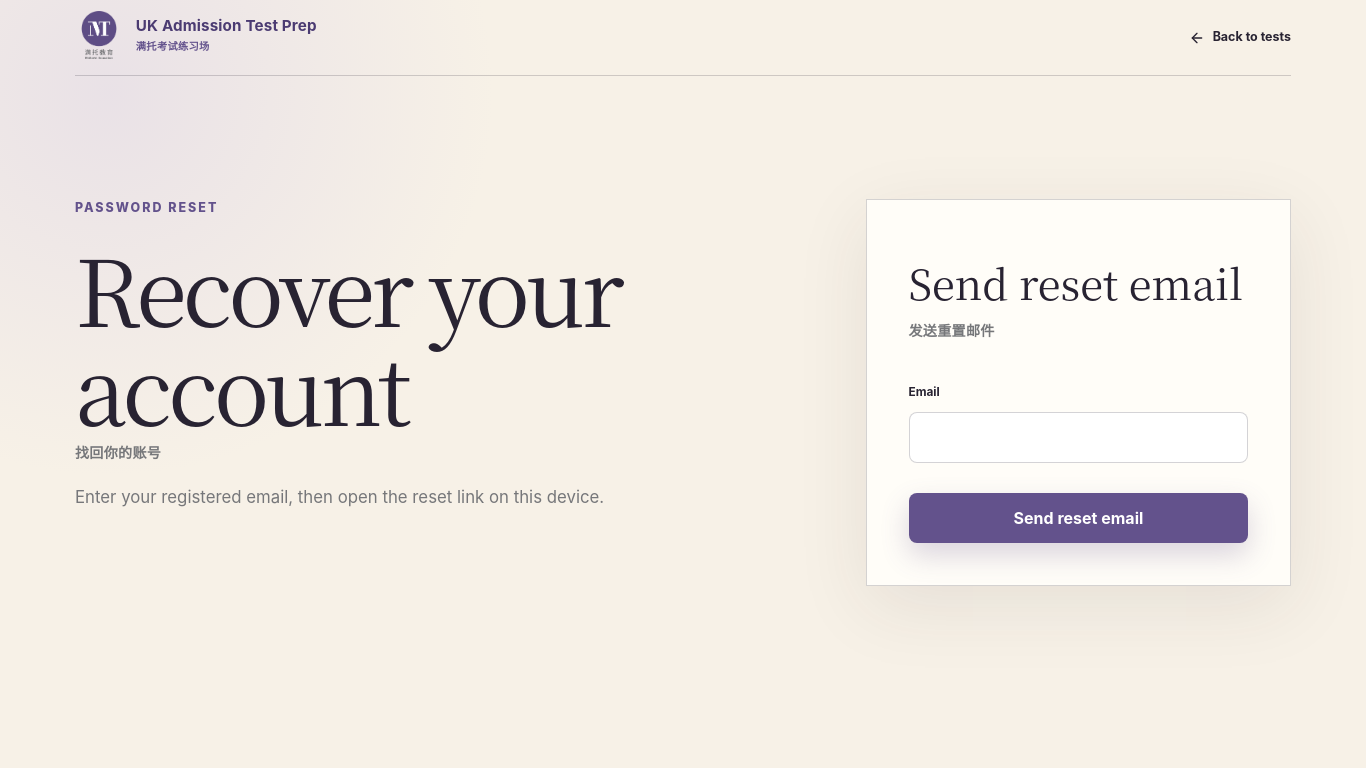
Scenario: student account lifecycle › requests a reset without revealing whether the email exists
This screenshot has width=1366, height=768.
In the field labelled "Email": (1078, 438) 908,412 -> 1248,463, type "student@example.com"
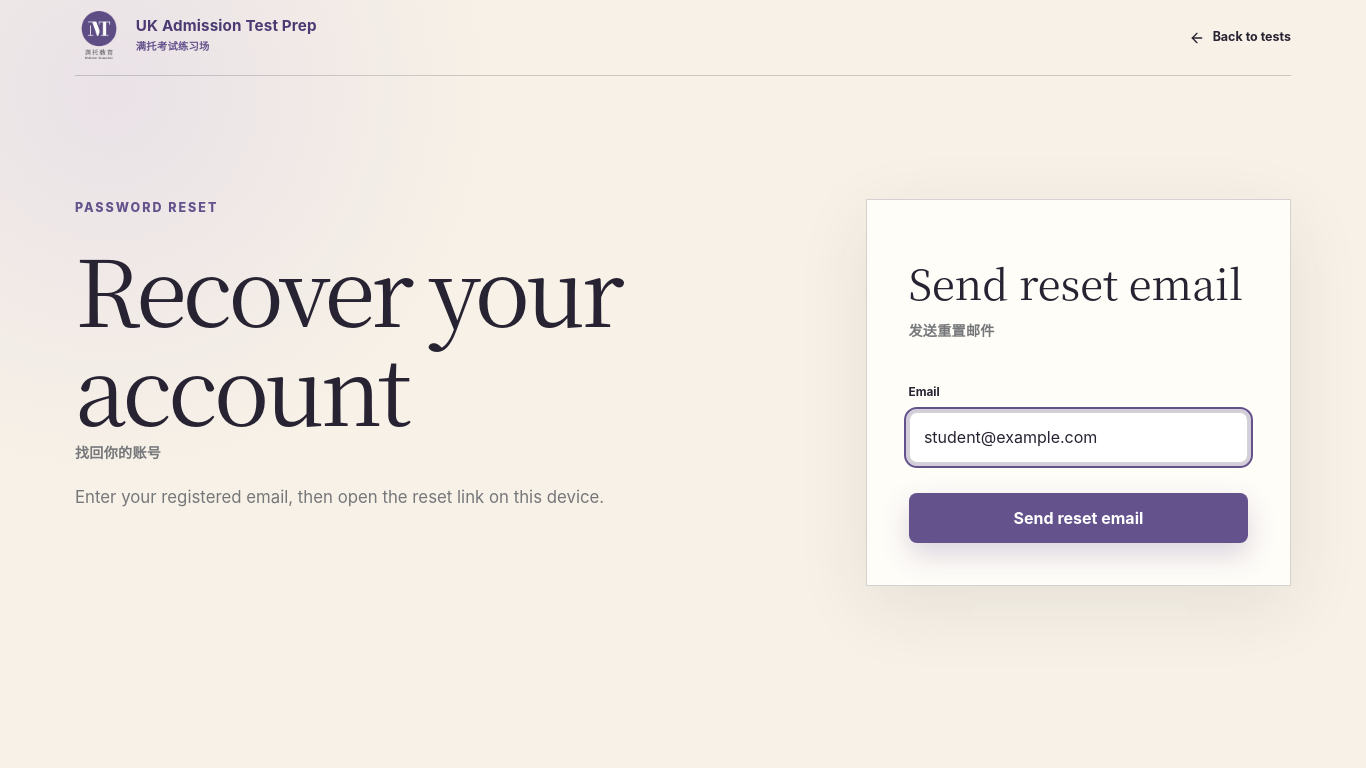
Click the button "Send reset email": (1078, 518) 908,494 -> 1248,544
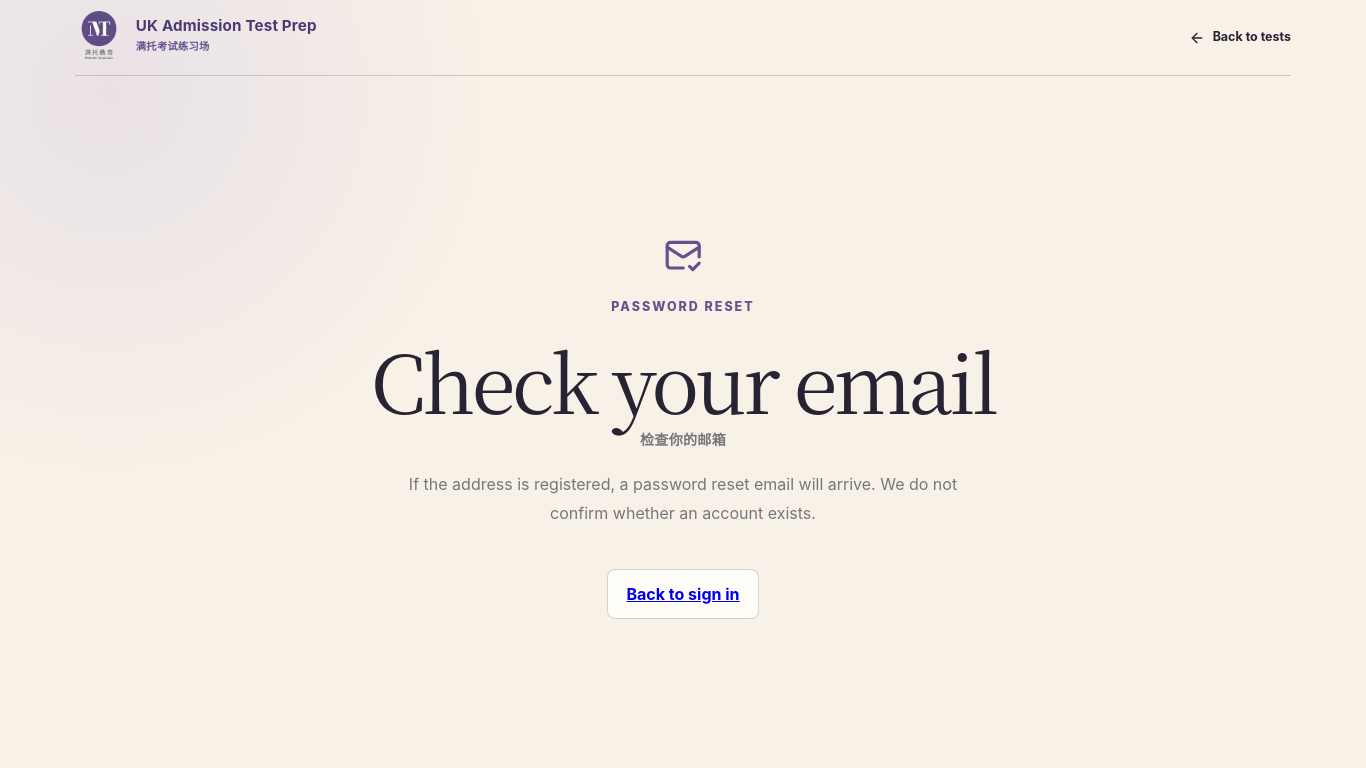
Now the heading "Check your email 检查你的邮箱" is shown, box 371,322 -> 995,448
Now the text "do not confirm whether an account exists" is shown, box 409,474 -> 957,522
